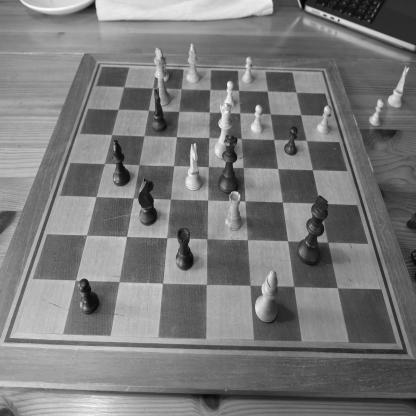black-bishop: (112, 139, 130, 187)
black-king: (296, 195, 329, 267)
black-knight: (138, 177, 157, 226), (151, 87, 167, 132)
black-pawn: (78, 278, 99, 315), (284, 126, 298, 156)
black-queen: (218, 134, 238, 194)
black-rook: (176, 228, 193, 270)
white-bishop: (255, 270, 279, 324), (185, 43, 201, 84)
white-king: (153, 47, 171, 107)
white-knight: (387, 66, 410, 108), (185, 143, 203, 191)
white-pawn: (316, 104, 332, 135), (368, 98, 385, 127), (250, 104, 264, 134), (242, 57, 254, 84), (224, 80, 235, 109), (161, 55, 170, 82)
white-queen: (214, 102, 233, 160)
white-rook: (224, 191, 242, 233)
